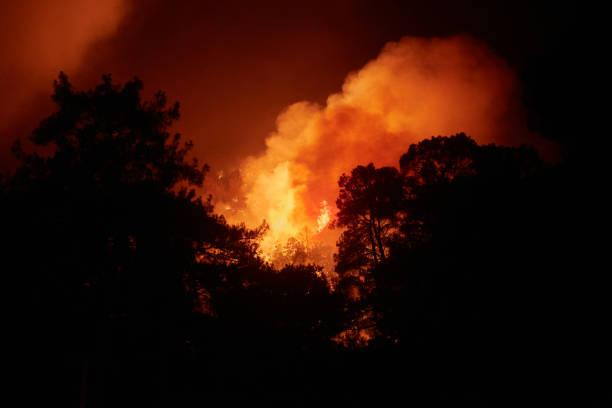Fire: (188, 53, 356, 273)
